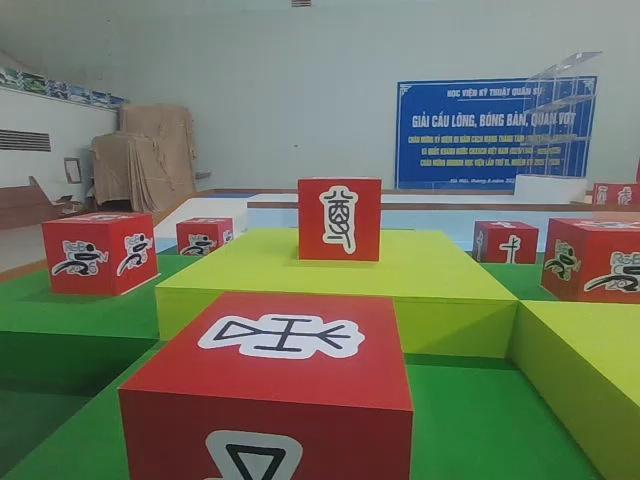R1: (39, 208, 160, 299), (538, 214, 640, 307), (174, 214, 235, 262)
R2 Fake: (295, 176, 383, 264)
R2 Real: (115, 285, 417, 480), (469, 218, 542, 269)
